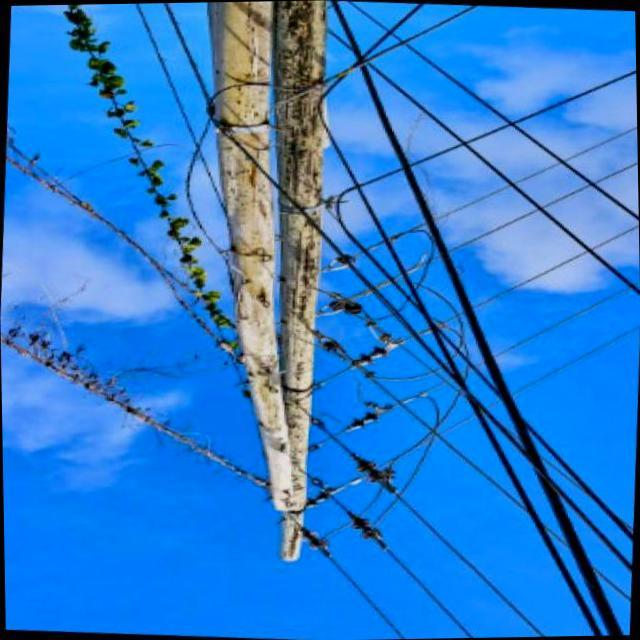critical vegetation: (161, 254, 234, 339)
